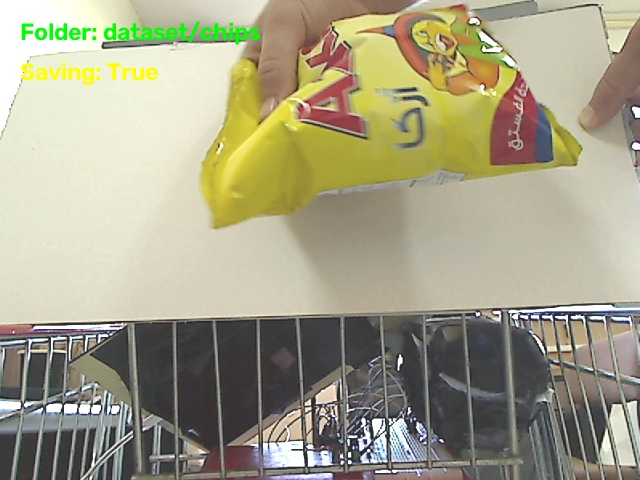chips: (201, 6, 580, 227)
